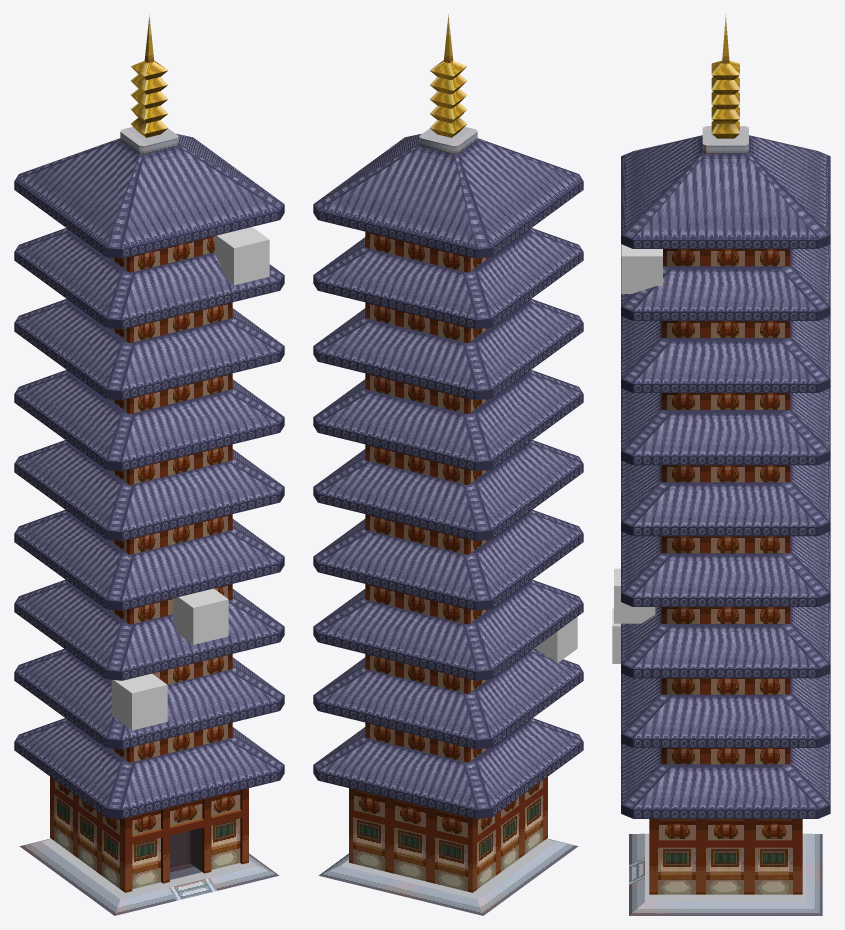
File: zone_tower_of_knowledge.glb
3 renders of one model, left to right at view 1: azimuth 30°, elevation 25°; view 2: azimuth 150°, elevation 25°; view 3: azimuth 270°, elevation 25°, orthographic.
Visible parts, largest first — view 1: tower_of_knowledge, placeholder, zone_dojo, zone_reading_room; view 2: tower_of_knowledge, placeholder; view 3: tower_of_knowledge, zone_reading_room, zone_dojo.
Boxes of the visible parts, <box> form: tower_of_knowledge: <box>14,14,284,915</box>; placeholder: <box>111,673,167,730</box>; zone_dojo: <box>173,588,228,644</box>; zone_reading_room: <box>214,227,269,285</box>; tower_of_knowledge: <box>313,14,583,915</box>; placeholder: <box>534,617,577,663</box>; tower_of_knowledge: <box>621,14,830,915</box>; zone_reading_room: <box>621,244,662,293</box>; zone_dojo: <box>614,568,655,623</box>.
Size of the model in its own units: 10.1 by 45.73 by 10.52.
4 materials, 3 textured.
